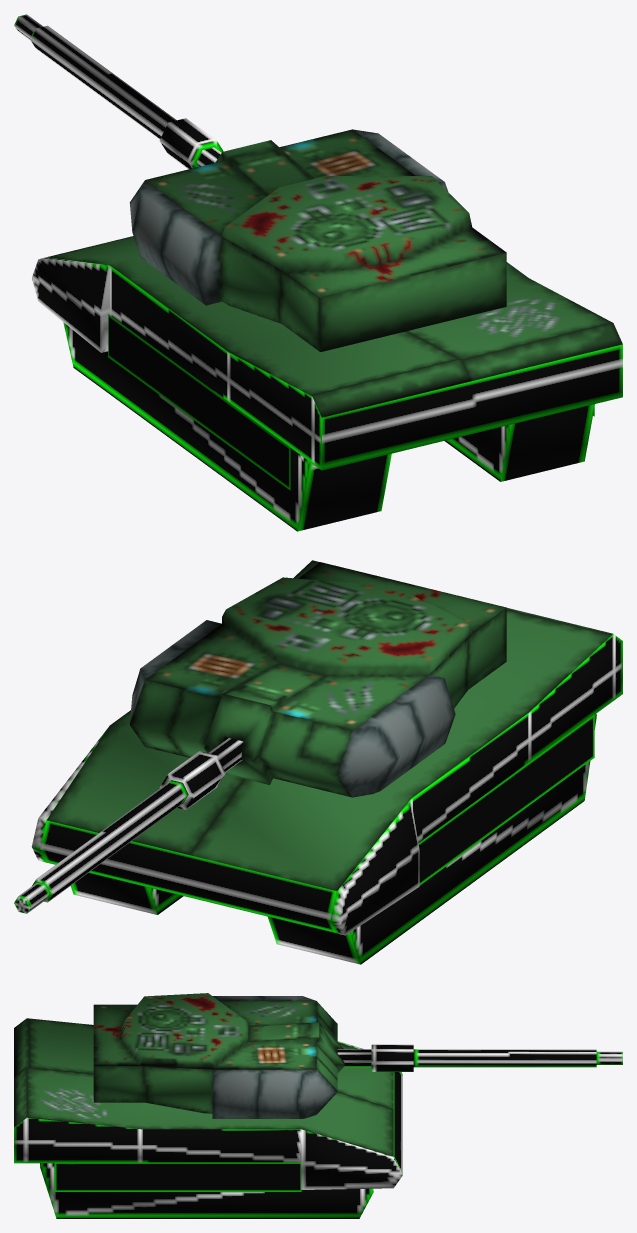
File: tank.fbx
The picture shows the model from 3 angles, top to bottom: view 1: azimuth 30°, elevation 25°; view 2: azimuth 150°, elevation 25°; view 3: azimuth 270°, elevation 25°; orthographic projection. The views are drawn at different scales.
Parts seen in each view (by area): view 1: Box002, Box003, Box004, Plane001, Cylinder001, Box005; view 2: Box002, Box003, Box004, Plane001, Cylinder001, Box005; view 3: Box002, Box003, Box005, Plane002, Cylinder001.
Boxes of the visible parts, x1,y1,x2,y2 form: Box002: (32,236,622,470); Box003: (129,129,506,351); Box004: (63,322,391,531); Plane001: (108,314,290,490); Cylinder001: (14,14,223,169); Box005: (444,404,594,481); Box002: (31,560,622,935); Box003: (129,562,506,797); Box004: (268,714,596,964); Plane001: (418,714,594,885); Cylinder001: (14,738,243,913); Box005: (71,873,183,914); Box002: (14,1018,402,1189); Box003: (93,993,344,1118); Box005: (40,1163,373,1218); Plane002: (54,1162,301,1191); Cylinder001: (337,1044,622,1071).
Size of the model in its own units: 453 by 290 by 1108.
1 material, 1 textured.
